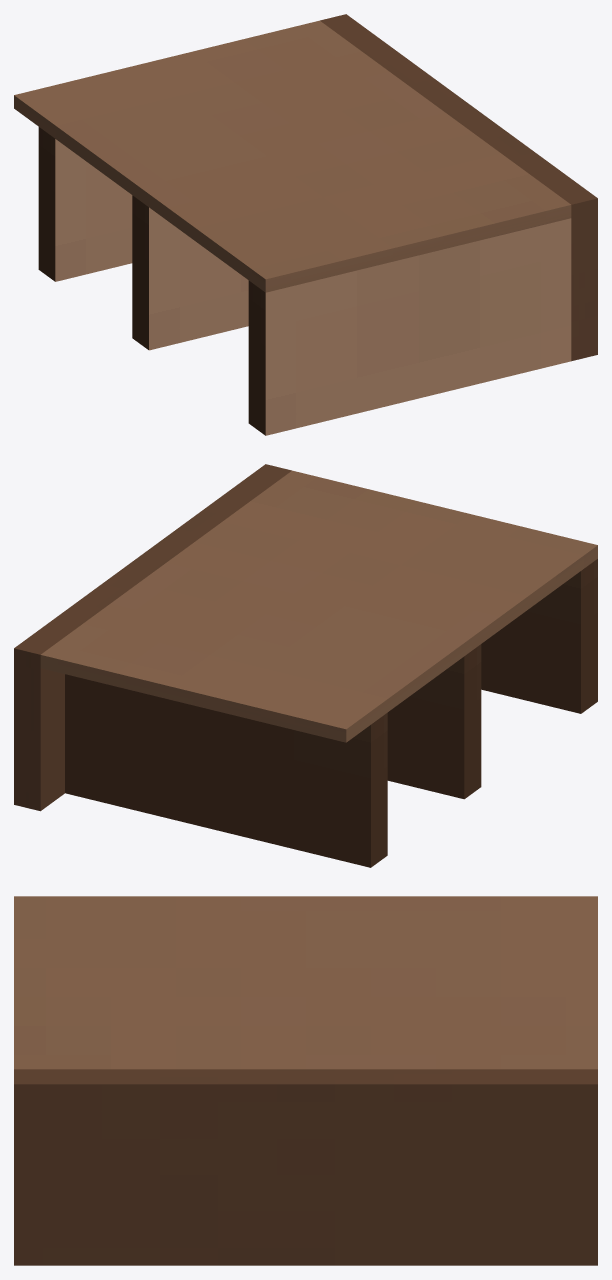
Rendered from pz_g024_corner_a_shelves.obj.
The picture shows the model from 3 angles, top to bottom: view 1: azimuth 30°, elevation 25°; view 2: azimuth 150°, elevation 25°; view 3: azimuth 270°, elevation 25°; orthographic projection. The views are drawn at different scales.
Parts seen in each view (by area): view 1: continuous_back_front, open_shelf_2_top, open_shelf_1_top, open_shelf_0_top, continuous_end_front, continuous_back_top, continuous_end_top, continuous_back_right, open_shelf_2_right, open_shelf_0_right, open_shelf_1_right; view 2: continuous_back_front, open_shelf_0_bottom, open_shelf_2_bottom, open_shelf_1_bottom, continuous_end_front, continuous_back_bottom, continuous_end_bottom, continuous_back_right, continuous_end_right, open_shelf_1_right, open_shelf_0_right, open_shelf_2_right; view 3: continuous_end_left, continuous_back_front, continuous_end_front.
Part boxes in pixels (x1,y1,x2,y2): continuous_back_front: [14, 20, 570, 279]; open_shelf_2_top: [265, 218, 571, 435]; open_shelf_1_top: [149, 207, 248, 350]; open_shelf_0_top: [55, 139, 132, 281]; continuous_end_front: [320, 14, 597, 204]; continuous_back_top: [265, 205, 571, 292]; continuous_end_top: [571, 198, 597, 361]; continuous_back_right: [14, 95, 265, 292]; open_shelf_2_right: [248, 280, 265, 435]; open_shelf_0_right: [38, 127, 55, 281]; open_shelf_1_right: [132, 195, 148, 349]; continuous_back_front: [41, 470, 597, 729]; open_shelf_0_bottom: [65, 674, 370, 867]; open_shelf_2_bottom: [481, 571, 580, 713]; open_shelf_1_bottom: [387, 656, 464, 798]; continuous_end_front: [14, 464, 291, 654]; continuous_back_bottom: [40, 655, 346, 742]; continuous_end_bottom: [14, 648, 40, 811]; continuous_back_right: [346, 545, 597, 742]; continuous_end_right: [40, 668, 64, 810]; open_shelf_1_right: [464, 644, 481, 798]; open_shelf_0_right: [371, 713, 387, 867]; open_shelf_2_right: [581, 559, 597, 713]; continuous_end_left: [14, 1084, 597, 1265]; continuous_back_front: [14, 896, 597, 1069]; continuous_end_front: [14, 1069, 597, 1084].
Size of the model in its own units: 0.625 by 0.2812 by 0.82.
Materials: 1 (1 with a texture image).
